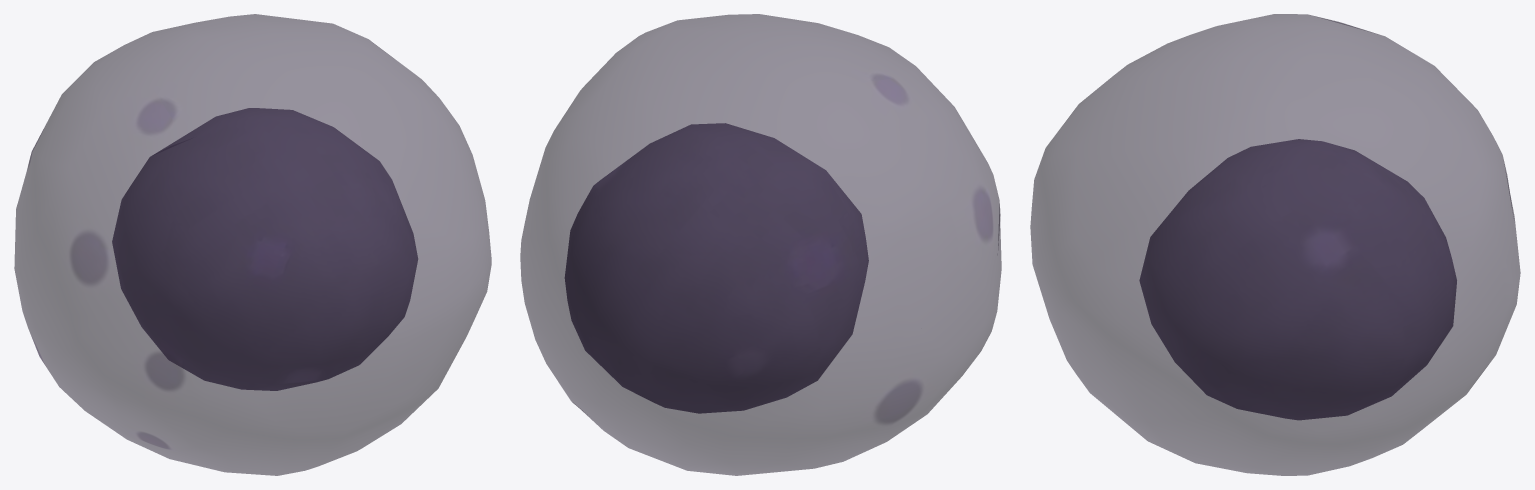
The model's file is s0_cell_base_tex.glb.
3 renders of one model, left to right at view 1: azimuth 30°, elevation 25°; view 2: azimuth 150°, elevation 25°; view 3: azimuth 270°, elevation 25°, orthographic.
Visible parts, largest first — view 1: membrane, nucleus; view 2: membrane, nucleus; view 3: membrane, nucleus.
Part boxes in pixels (left/top/right/bottom): membrane: left=14, top=14, right=491, bottom=475; nucleus: left=112, top=108, right=417, bottom=390; membrane: left=520, top=14, right=1001, bottom=475; nucleus: left=565, top=123, right=868, bottom=413; membrane: left=1030, top=14, right=1520, bottom=475; nucleus: left=1139, top=139, right=1456, bottom=419.
Size of the model in its own units: 0.9855 by 0.9521 by 1.03.
2 materials, 2 textured.
